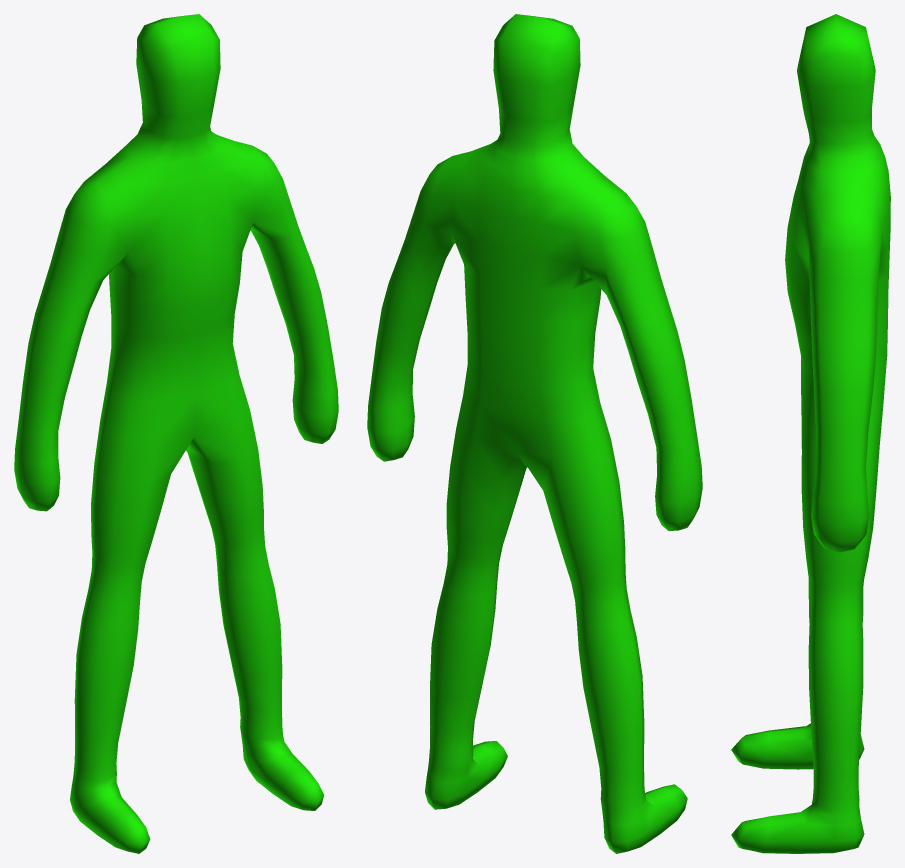
The model's file is Player_reference.fbx.
3 renders of one model, left to right at view 1: azimuth 30°, elevation 25°; view 2: azimuth 150°, elevation 25°; view 3: azimuth 270°, elevation 25°, orthographic. The views are drawn at different scales.
Parts seen in each view (by area): view 1: Cube; view 2: Cube; view 3: Cube.
Part boxes in pixels (bbox=[...]): Cube: bbox=[14, 14, 338, 853]; Cube: bbox=[367, 14, 702, 853]; Cube: bbox=[731, 14, 890, 853].
Size of the model in its own units: 75.78 by 182 by 33.4.
